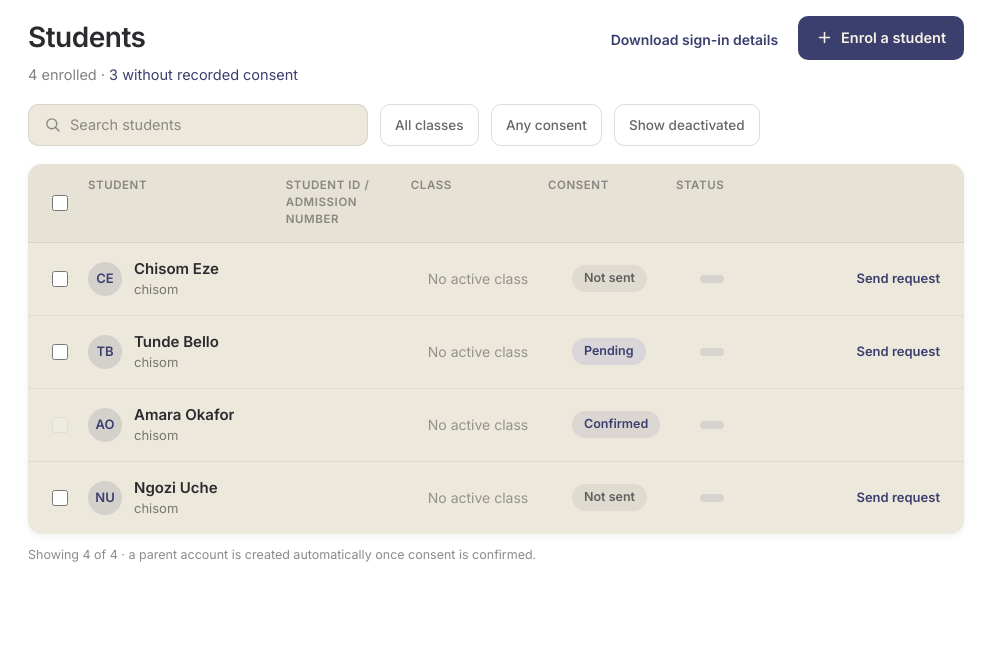
it: selecting who to send to › selects every row that can still be asked, and only those
Expected: the text "Chisom Eze" is shown, [134,258,219,280]
Click the checkbox named "Select every student": click(60, 203) [52,195,68,211]
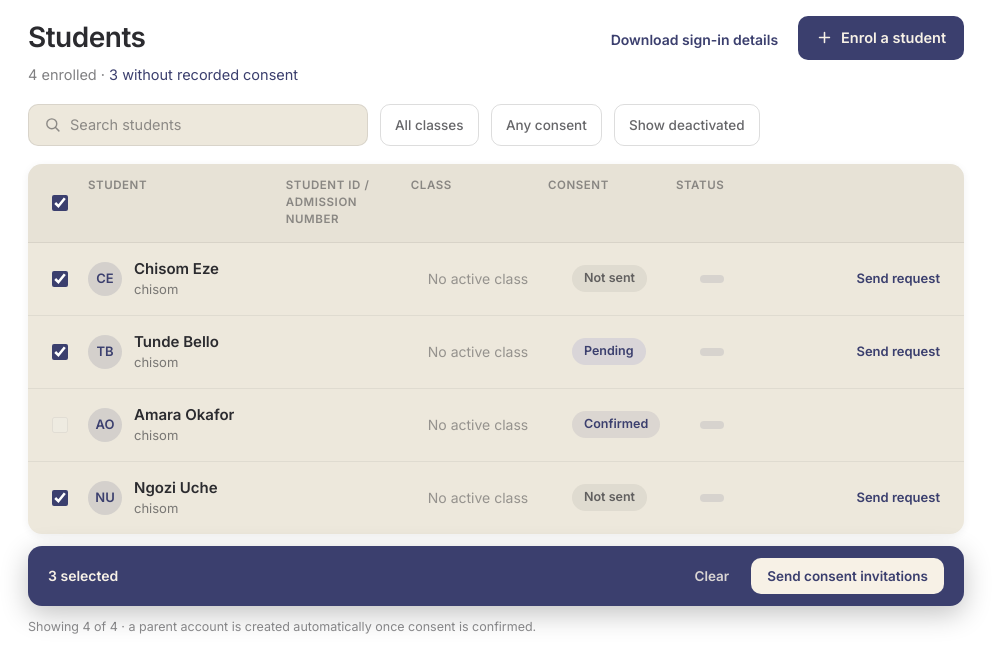
Result: the text "3 selected" is shown at [48,565,118,586]
